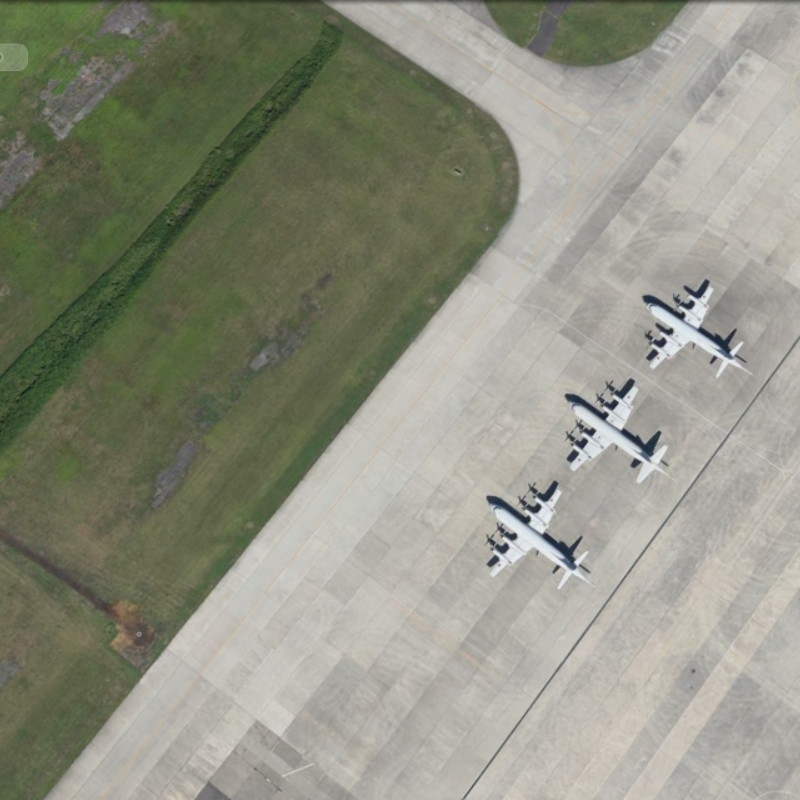A9: (475, 478, 594, 590), (561, 379, 676, 488), (633, 279, 750, 383)
